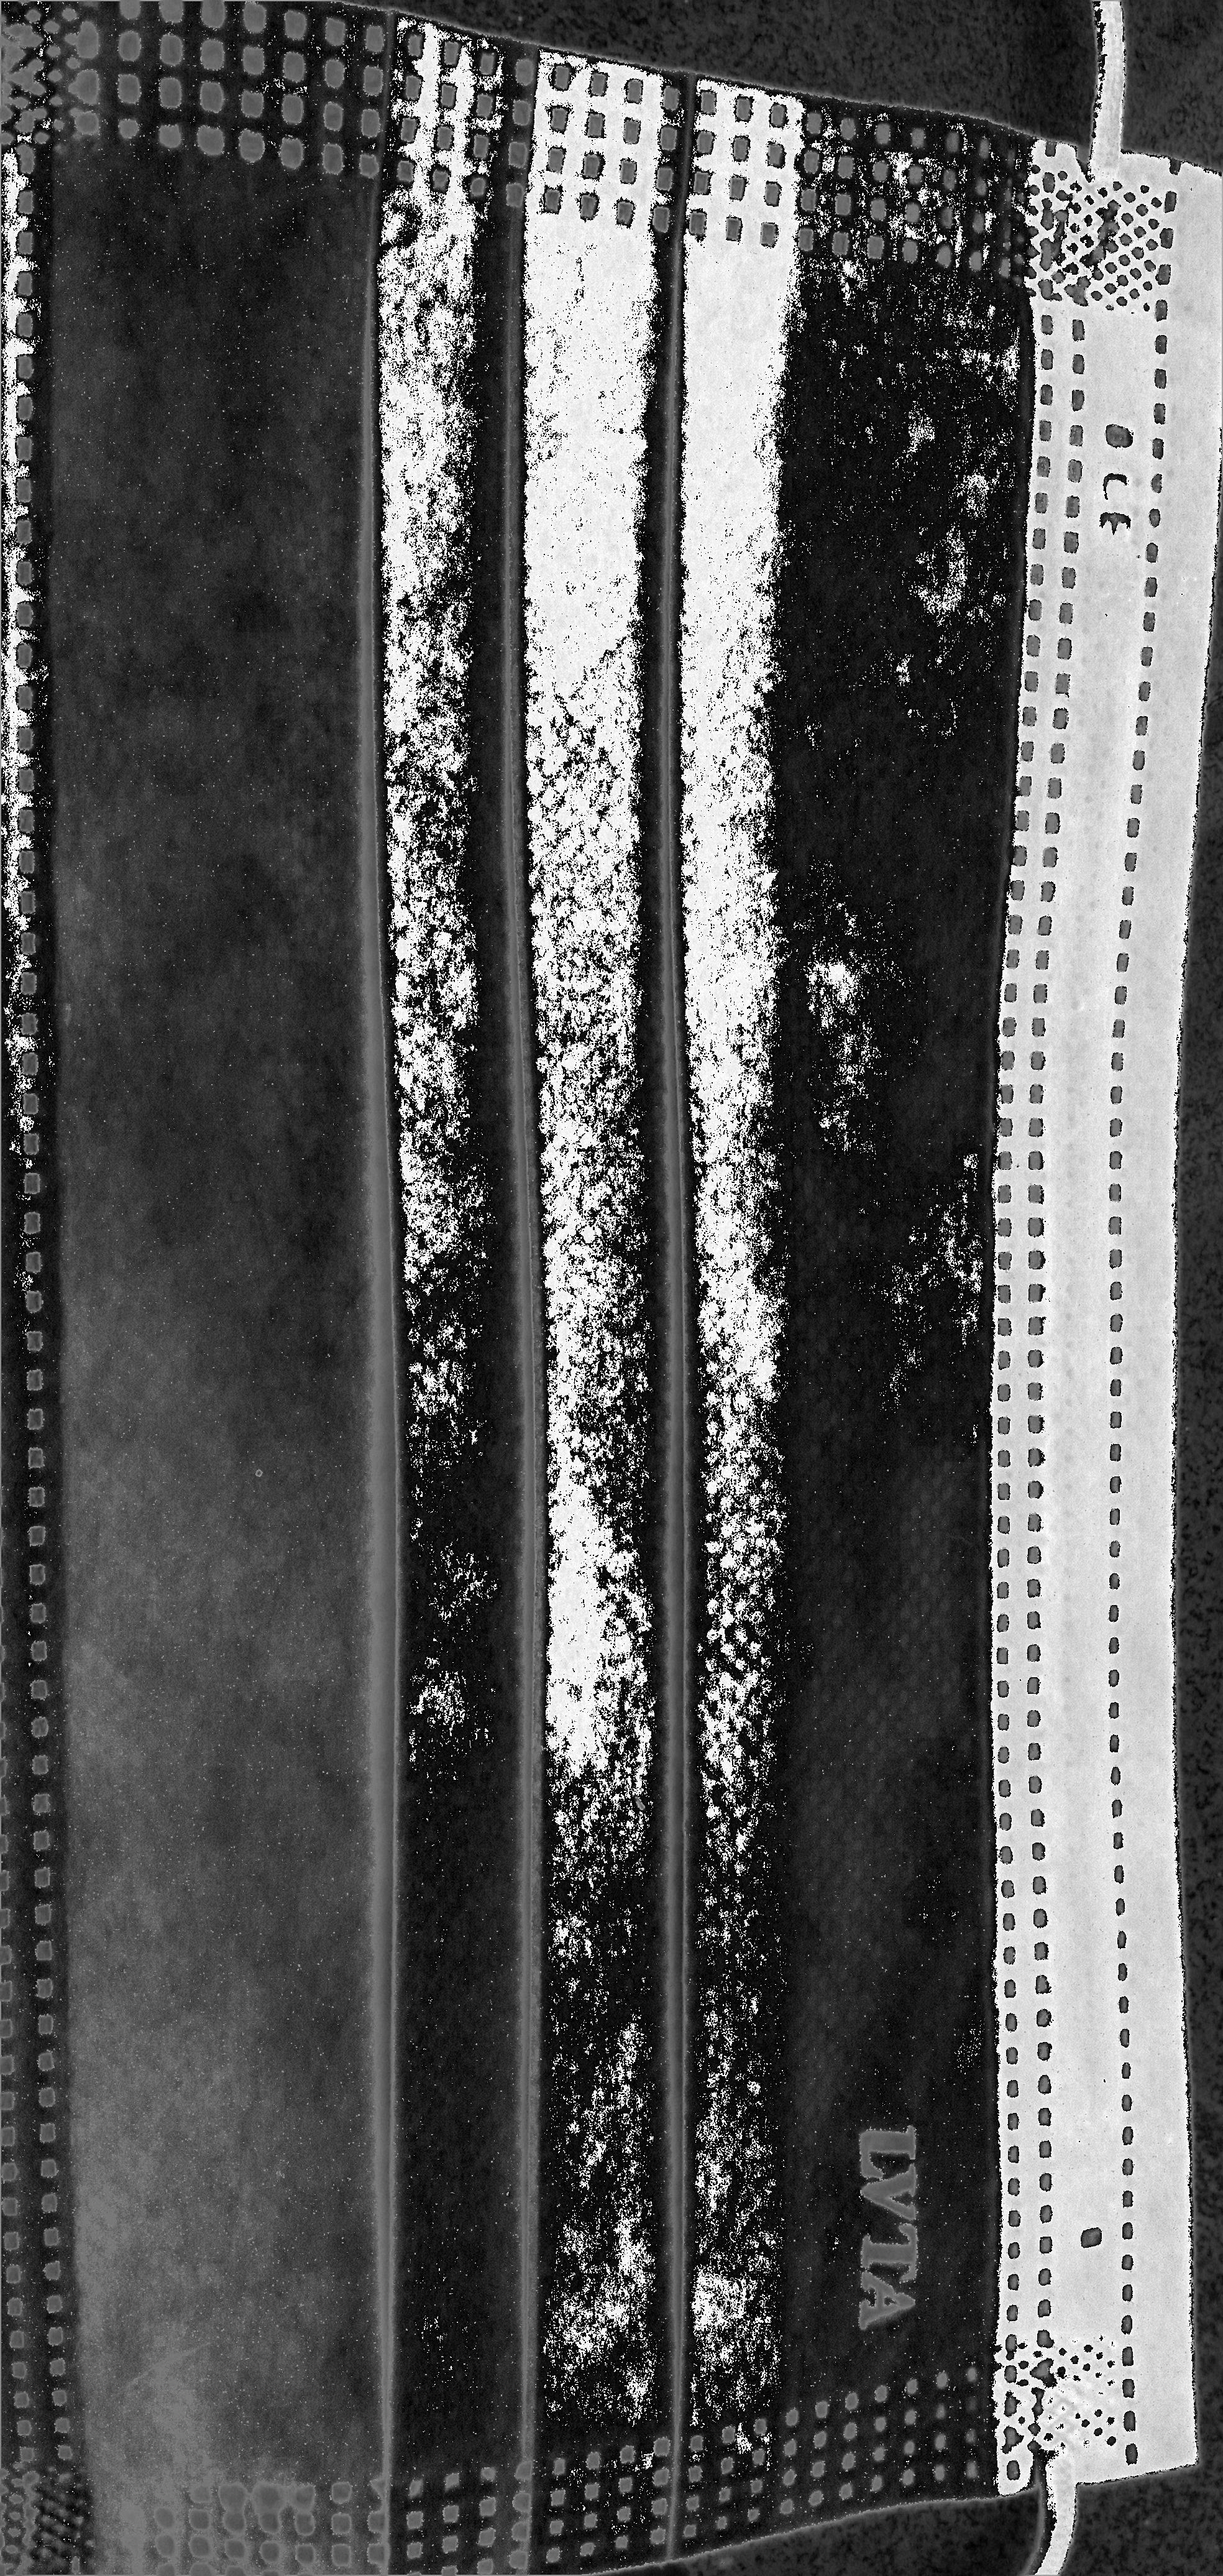High GSM: (97, 296, 1013, 2403)
